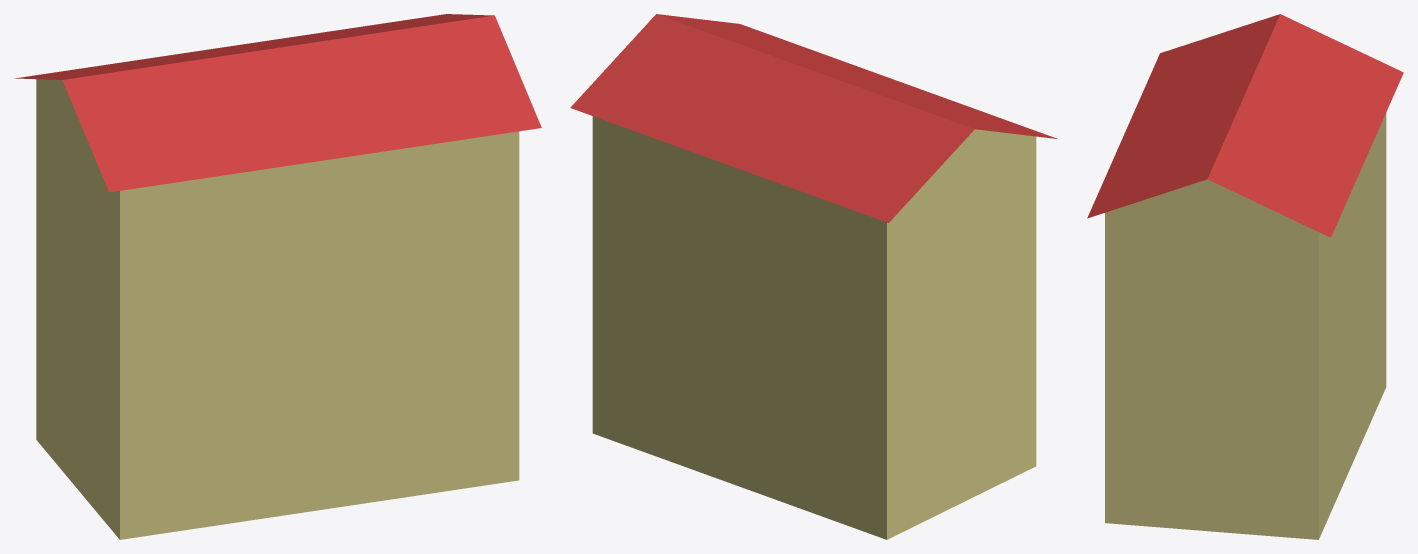
3 renders of one model, left to right at view 1: azimuth 30°, elevation 25°; view 2: azimuth 150°, elevation 25°; view 3: azimuth 270°, elevation 25°, orthographic. The views are drawn at different scales.
Bounding box in the file's own units: 7.18 × 5.21 × 6.5.
